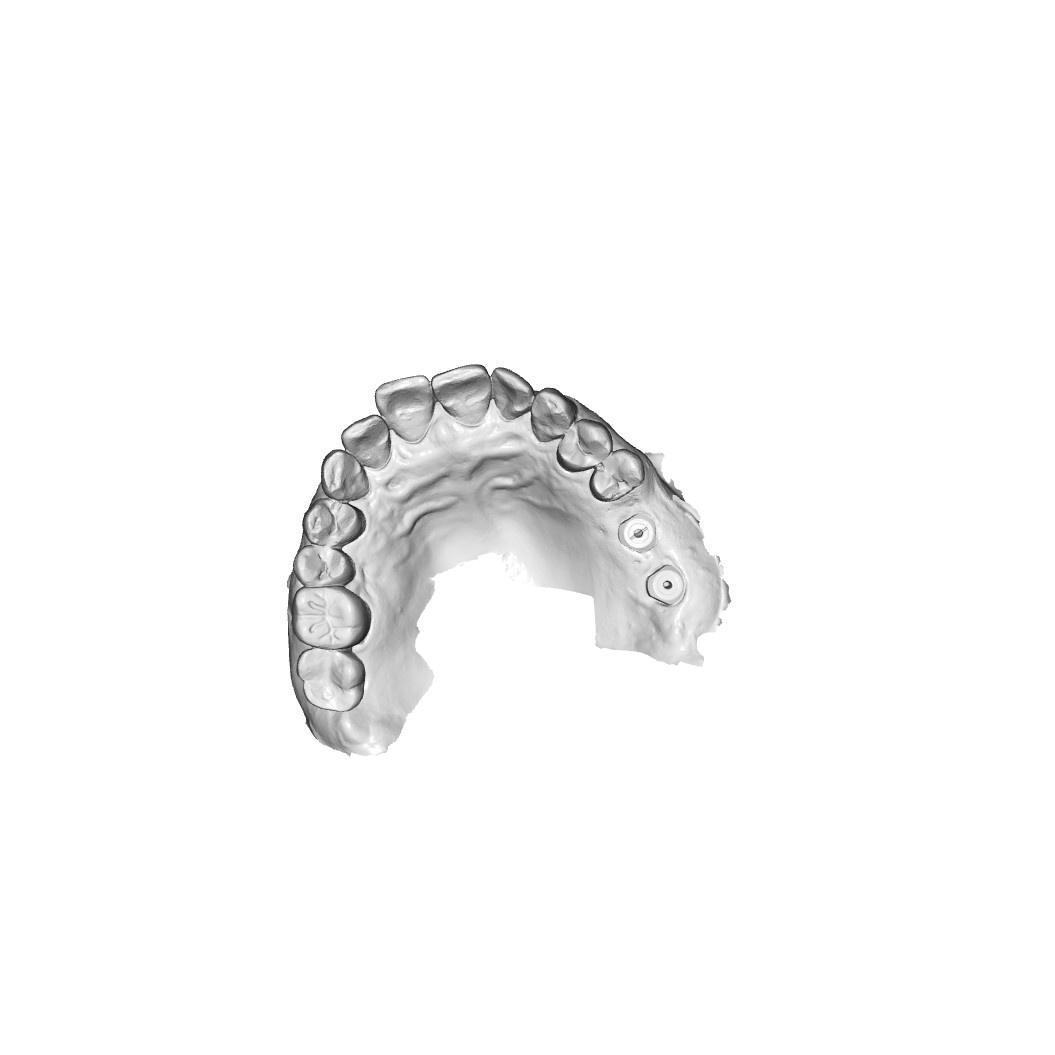canine: (528, 384, 579, 444), (319, 448, 373, 504)
implant: (645, 563, 690, 607)
implant_minus: (620, 515, 657, 554)
incisor: (374, 374, 438, 444), (430, 363, 492, 428), (339, 411, 391, 473), (489, 365, 534, 423)
molar: (290, 647, 374, 714), (289, 586, 374, 649)
premolar: (554, 416, 618, 473), (299, 498, 367, 547), (590, 448, 646, 503), (294, 543, 357, 590)
